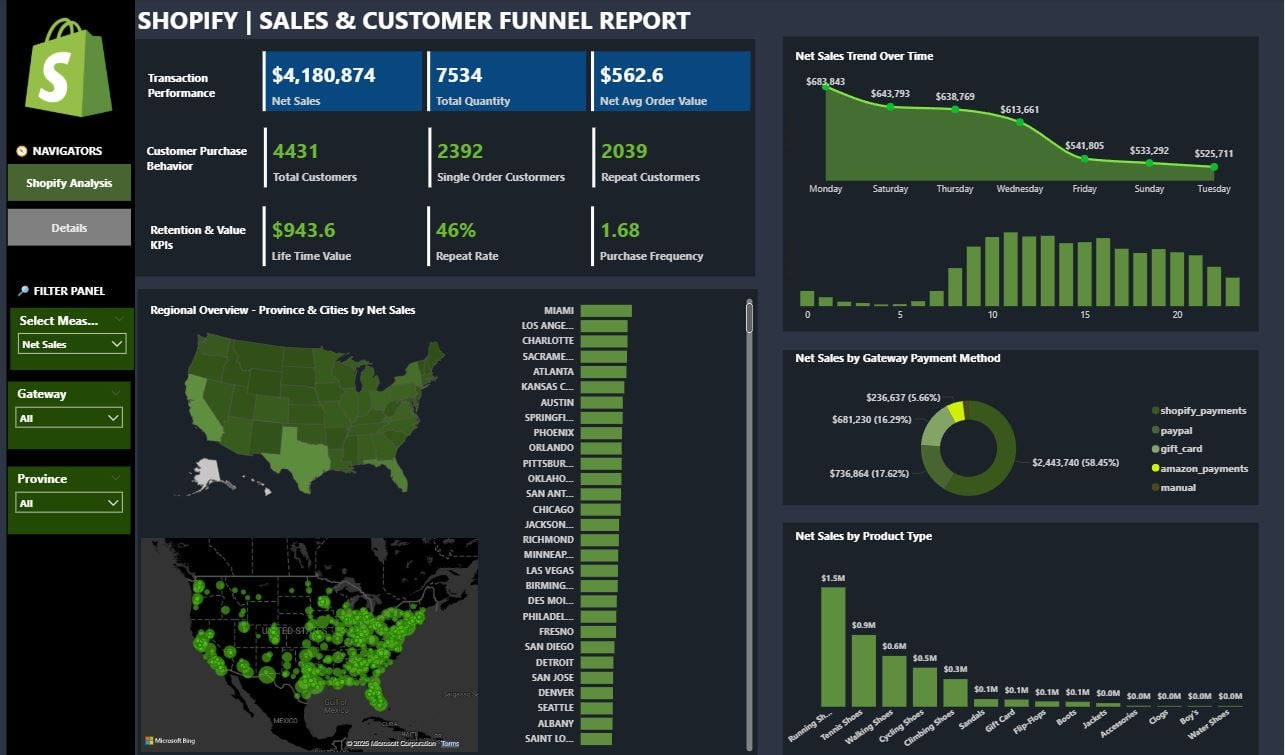

The page's visual inventory and layout, read from the dashboard file:
{"tool":"powerbi","page":{"name":"Shopify Analysis","canvas":[1700,1000],"ordinal":0},"visuals":[{"type":"shape","box":[9.1,0,170,1000.5],"z":0},{"type":"textbox","box":[178.6,0,761.8,63.8],"z":1000},{"type":"shape","box":[180.2,52.9,820.1,314.2],"z":2000},{"type":"cardVisual","fields":{"Data":["shopify_sales.Net Sales","shopify_sales.Total Quantity","shopify_sales.Net Avg Order Value"]},"box":[343.9,64.5,656.4,89.3],"z":3000},{"type":"cardVisual","fields":{"Data":["shopify_sales.Transactipn Perf"]},"box":[180.2,64.5,162,89.3],"z":4000},{"type":"cardVisual","fields":{"Data":["shopify_sales.Total Customers","shopify_sales.Single Order Custormers","shopify_sales.Repeat Custormers"]},"box":[345.6,165.3,656.4,89.3],"z":5000},{"type":"cardVisual","fields":{"Data":["shopify_sales.Customer Purchase Behavior"]},"box":[178.6,165.3,185.2,104.2],"z":6000},{"type":"cardVisual","fields":{"Data":["shopify_sales.Avg LTV","shopify_sales.Repeat Rate","shopify_sales.Purchase Frequency"]},"box":[344.3,269.3,656.4,89.3],"z":7000},{"type":"cardVisual","fields":{"Data":["shopify_sales.RetentionValue"]},"box":[183.9,269.3,160.4,89.3],"z":8000},{"type":"shape","box":[183.5,383.6,820.1,616.7],"z":9000},{"type":"shapeMap","fields":{"Value":["shopify_sales.Net Sales"],"Category":["shopify_sales.Billing Address Province"]},"box":[183.5,424.9,454.7,249.7],"z":10000},{"type":"slicer","fields":{"Values":["Select Measure.Select Measure"]},"box":[14.9,408.4,163.7,82.7],"z":11000},{"type":"map","fields":{"Size":["shopify_sales.Net Sales"],"Category":["shopify_sales.Location"]},"box":[183.5,707.7,454.7,292.7],"z":12000},{"type":"clusteredBarChart","fields":{"Y":["shopify_sales.Net Sales"],"Category":["shopify_sales.CITY"]},"box":[674.6,383.6,327.4,616.7],"z":13000},{"type":"cardVisual","fields":{"Data":["shopify_sales.Map Title"]},"box":[183.5,375.3,469.6,64.5],"z":14000},{"type":"shape","box":[1036.7,49.6,630,390.2],"z":15000},{"type":"areaChart","fields":{"Y":["shopify_sales.Net Sales"],"Category":["shopify_sales.DayOfWeekName"]},"box":[1036.7,90.9,610.1,178.6],"z":16000},{"type":"columnChart","fields":{"Y":["shopify_sales.Net Sales"],"Category":["shopify_sales.Hour"]},"box":[1036.7,269.5,610.1,167],"z":17000},{"type":"cardVisual","fields":{"Data":["shopify_sales.Trend Title"]},"box":[1036.7,39.7,400.1,51.3],"z":18000},{"type":"shape","box":[1036.7,464.6,630,205],"z":19000},{"type":"donutChart","fields":{"Y":["shopify_sales.Net Sales"],"Category":["shopify_sales.Gateway"]},"box":[1036.7,509.3,630,170.3],"z":20000},{"type":"cardVisual","fields":{"Data":["shopify_sales.Gateway Title Payment"]},"box":[1036.7,439.8,400.1,51.3],"z":21000},{"type":"shape","box":[1036.7,692.8,630,307.5],"z":22000},{"type":"clusteredColumnChart","fields":{"Y":["shopify_sales.Net Sales"],"Category":["shopify_sales.Product Type"]},"box":[1036.7,739.1,630,261.2],"z":23000},{"type":"cardVisual","fields":{"Data":["shopify_sales.Product Title"]},"box":[1036.7,674.6,400.1,51.3],"z":24000},{"type":"image","box":[21.5,19.8,142.2,142.2],"z":25000},{"type":"slicer","fields":{"Values":["shopify_sales.Gateway"]},"box":[11.6,506,162,89.3],"z":25001},{"type":"slicer","fields":{"Values":["shopify_sales.Billing Address Province"]},"box":[11.6,618.4,162,89.3],"z":25002},{"type":"pageNavigator","box":[11.6,218.3,163.7,109.1],"z":25003},{"type":"cardVisual","fields":{"Data":["shopify_sales.SectionTitle"]},"box":[3.3,165.3,183.5,64.5],"z":25004},{"type":"cardVisual","fields":{"Data":["shopify_sales.SectionTitle1"]},"box":[5,350.5,183.5,64.5],"z":25006}]}

Visuals, with their boxes on the page's 1700x1000 design canvas (x1, y1, x2, y2). These are canvas units, not pixel positions in the 1285x755 screenshot, which may show the page scaled, cropped or inside an application window:
shape: crop(9, 0, 179, 1000)
textbox: crop(179, 0, 940, 64)
shape: crop(180, 53, 1000, 367)
cardVisual - shopify_sales.Net Sales x shopify_sales.Total Quantity: crop(344, 64, 1000, 154)
cardVisual - shopify_sales.Transactipn Perf: crop(180, 64, 342, 154)
cardVisual - shopify_sales.Total Customers x shopify_sales.Single Order Custormers: crop(346, 165, 1002, 255)
cardVisual - shopify_sales.Customer Purchase Behavior: crop(179, 165, 364, 270)
cardVisual - shopify_sales.Avg LTV x shopify_sales.Repeat Rate: crop(344, 269, 1001, 359)
cardVisual - shopify_sales.RetentionValue: crop(184, 269, 344, 359)
shape: crop(184, 384, 1004, 1000)
shapeMap - shopify_sales.Net Sales x shopify_sales.Billing Address Province: crop(184, 425, 638, 675)
slicer - Select Measure.Select Measure: crop(15, 408, 179, 491)
map - shopify_sales.Net Sales x shopify_sales.Location: crop(184, 708, 638, 1000)
clusteredBarChart - shopify_sales.Net Sales x shopify_sales.CITY: crop(675, 384, 1002, 1000)
cardVisual - shopify_sales.Map Title: crop(184, 375, 653, 440)
shape: crop(1037, 50, 1667, 440)
areaChart - shopify_sales.Net Sales x shopify_sales.DayOfWeekName: crop(1037, 91, 1647, 270)
columnChart - shopify_sales.Net Sales x shopify_sales.Hour: crop(1037, 270, 1647, 436)
cardVisual - shopify_sales.Trend Title: crop(1037, 40, 1437, 91)
shape: crop(1037, 465, 1667, 670)
donutChart - shopify_sales.Net Sales x shopify_sales.Gateway: crop(1037, 509, 1667, 680)
cardVisual - shopify_sales.Gateway Title Payment: crop(1037, 440, 1437, 491)
shape: crop(1037, 693, 1667, 1000)
clusteredColumnChart - shopify_sales.Net Sales x shopify_sales.Product Type: crop(1037, 739, 1667, 1000)
cardVisual - shopify_sales.Product Title: crop(1037, 675, 1437, 726)
image: crop(22, 20, 164, 162)
slicer - shopify_sales.Gateway: crop(12, 506, 174, 595)
slicer - shopify_sales.Billing Address Province: crop(12, 618, 174, 708)
pageNavigator: crop(12, 218, 175, 327)
cardVisual - shopify_sales.SectionTitle: crop(3, 165, 187, 230)
cardVisual - shopify_sales.SectionTitle1: crop(5, 350, 188, 415)
